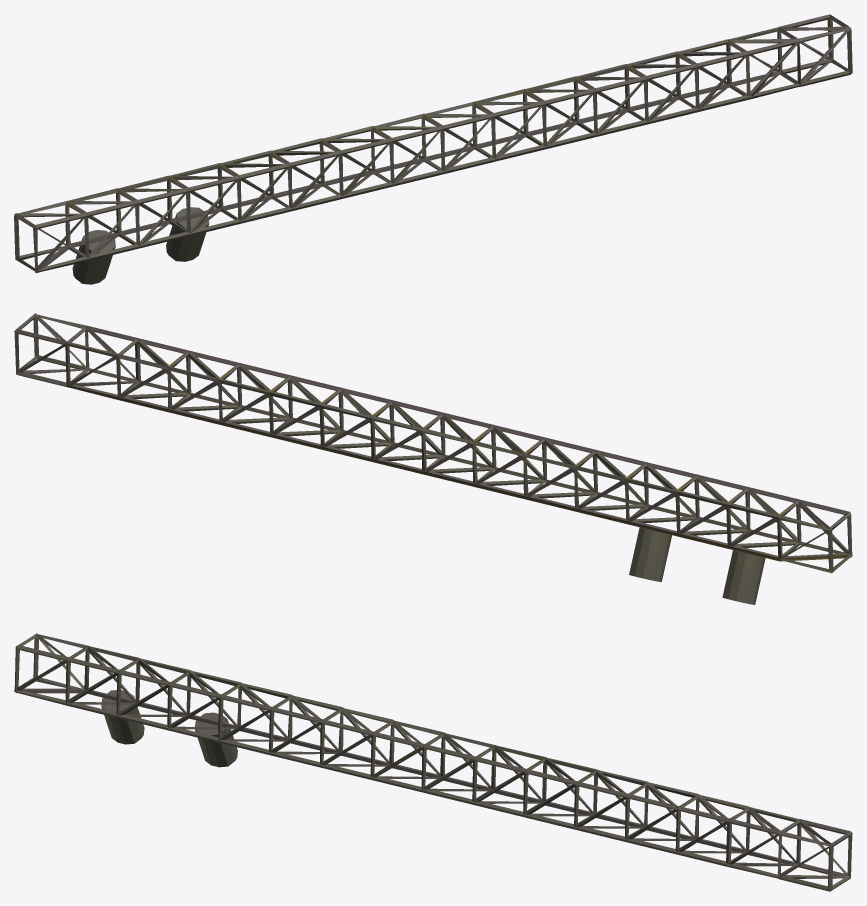
The model's file is Uplight.fbx.
The picture shows the model from 3 angles, top to bottom: view 1: azimuth 30°, elevation 25°; view 2: azimuth 150°, elevation 25°; view 3: azimuth 330°, elevation 25°; orthographic projection.
Parts seen in each view (by area): view 1: Cube.010, Cube.046, Cube.047; view 2: Cube.010, Cube.046, Cube.047; view 3: Cube.010, Cube.047, Cube.046.
Boxes of the visible parts, x1,y1,x2,y2 form: Cube.010: [14, 14, 852, 272]; Cube.046: [72, 230, 115, 284]; Cube.047: [166, 207, 209, 261]; Cube.010: [14, 313, 852, 573]; Cube.046: [722, 550, 765, 604]; Cube.047: [629, 527, 671, 581]; Cube.010: [14, 633, 852, 891]; Cube.047: [195, 712, 237, 767]; Cube.046: [101, 690, 144, 744].
Size of the model in its own units: 115 by 1444 by 160.
